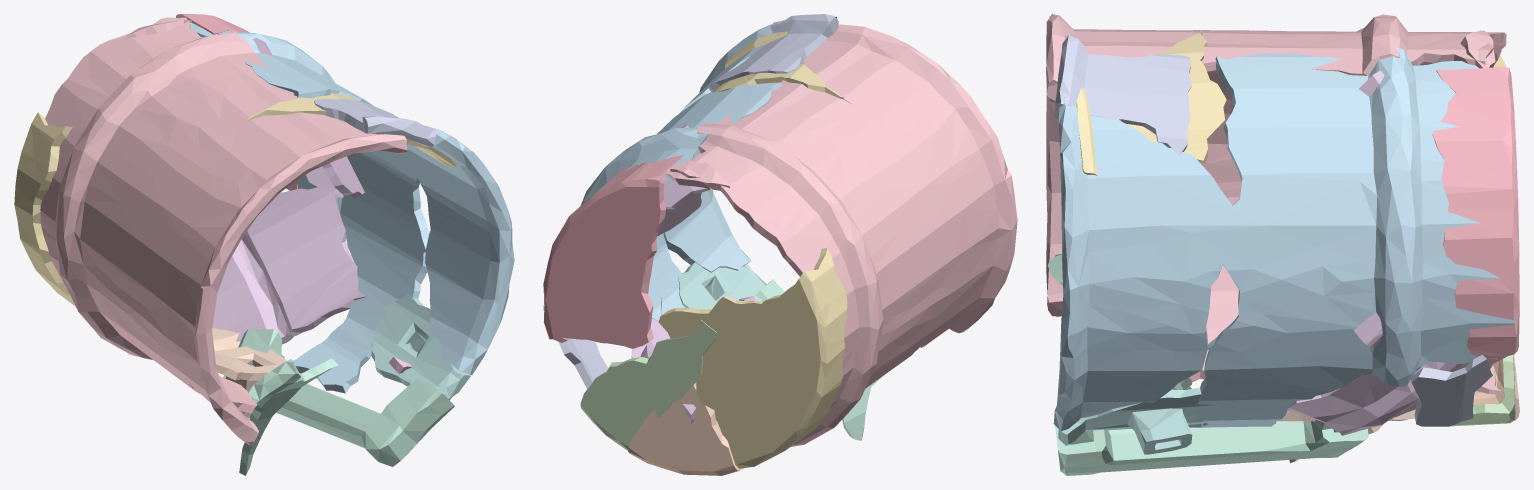
The model's file is 37f56901_colored.glb.
The picture shows the model from 3 angles, left to right: view 1: azimuth 30°, elevation 25°; view 2: azimuth 150°, elevation 25°; view 3: azimuth 270°, elevation 25°; orthographic projection. The views are drawn at different scales.
Visible parts, largest first — view 1: world; view 2: world; view 3: world.
Boxes of the visible parts, left/top/right/bottom form: world: left=14, top=14, right=514, bottom=475; world: left=543, top=14, right=1017, bottom=475; world: left=1046, top=14, right=1519, bottom=475.
Size of the model in its own units: 0.8558 by 0.9431 by 0.9018.
